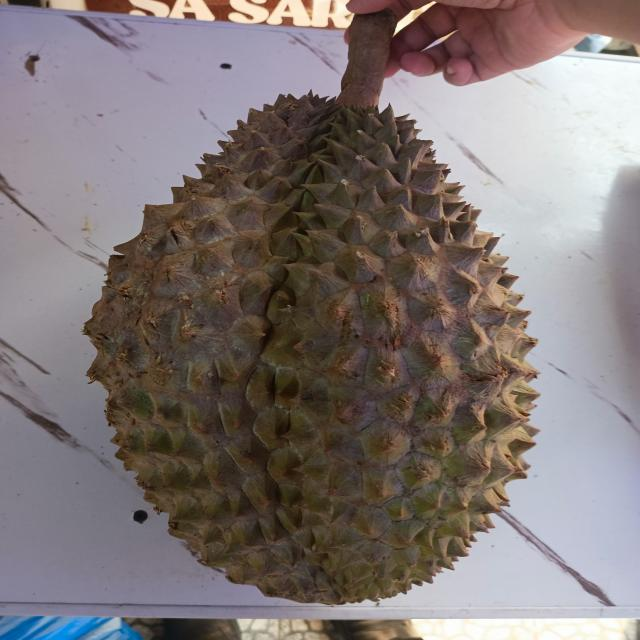mature: (85, 93, 537, 604)
